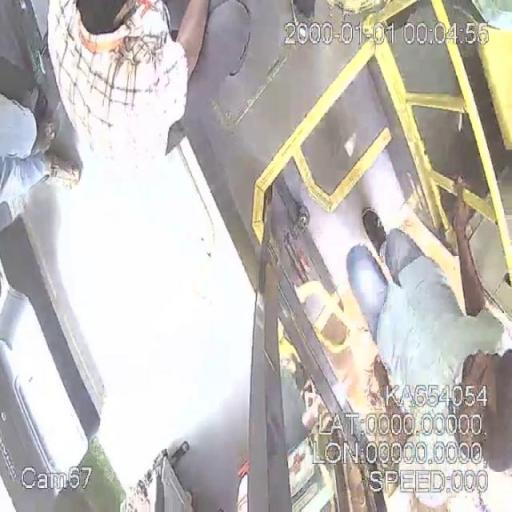persona: (294, 176, 510, 510), (45, 0, 212, 167)
